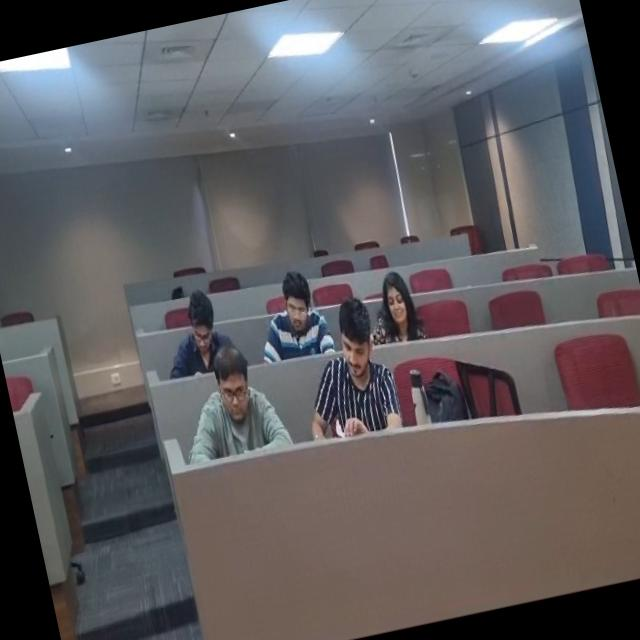cheating: (318, 305, 407, 447)
non-cheating: (192, 338, 286, 470), (246, 261, 333, 364), (156, 274, 238, 378), (364, 265, 438, 352)
